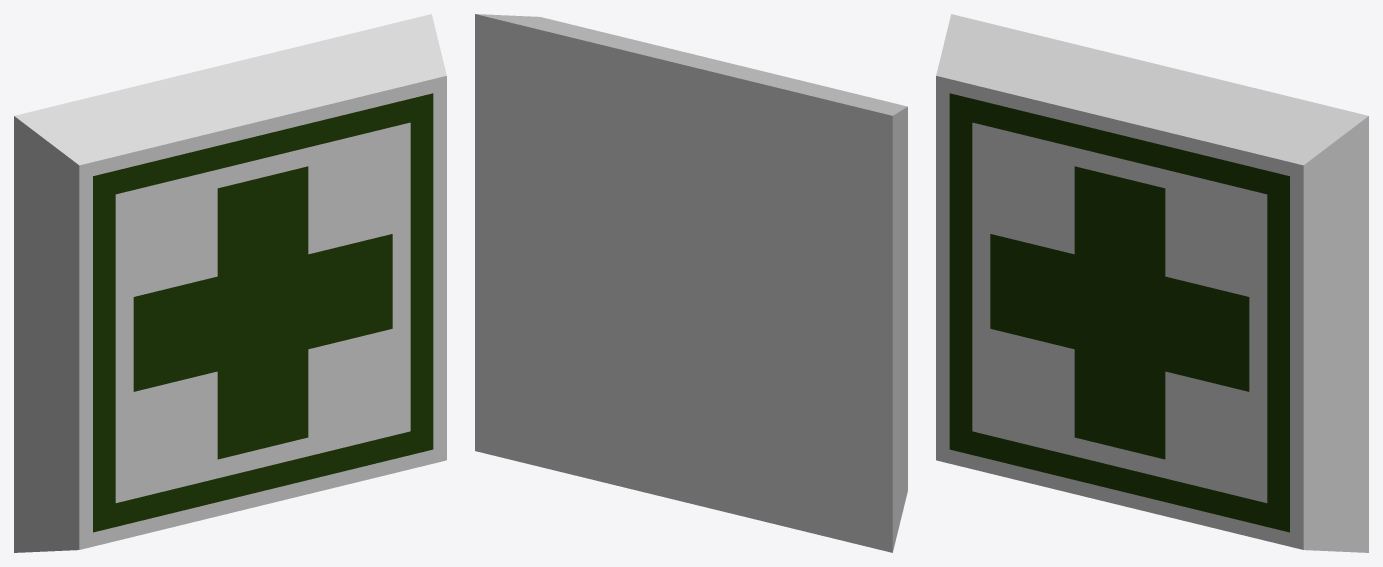
The model's file is SciFi_Modular_Semiotic_Medical_01.fbx.
3 views of the same model, side by side, from view 1: azimuth 30°, elevation 25°; view 2: azimuth 150°, elevation 25°; view 3: azimuth 330°, elevation 25° (orthographic).
Visible parts, largest first — view 1: SciFi_Modular_Semiotic_Medical_01; view 2: SciFi_Modular_Semiotic_Medical_01; view 3: SciFi_Modular_Semiotic_Medical_01.
Part boxes in pixels (x1,y1,x2,y2): SciFi_Modular_Semiotic_Medical_01: (14, 14, 446, 552); SciFi_Modular_Semiotic_Medical_01: (475, 14, 907, 552); SciFi_Modular_Semiotic_Medical_01: (936, 14, 1368, 552).
Bounding box in the file's own units: 0.5365 × 0.5365 × 0.0894.
